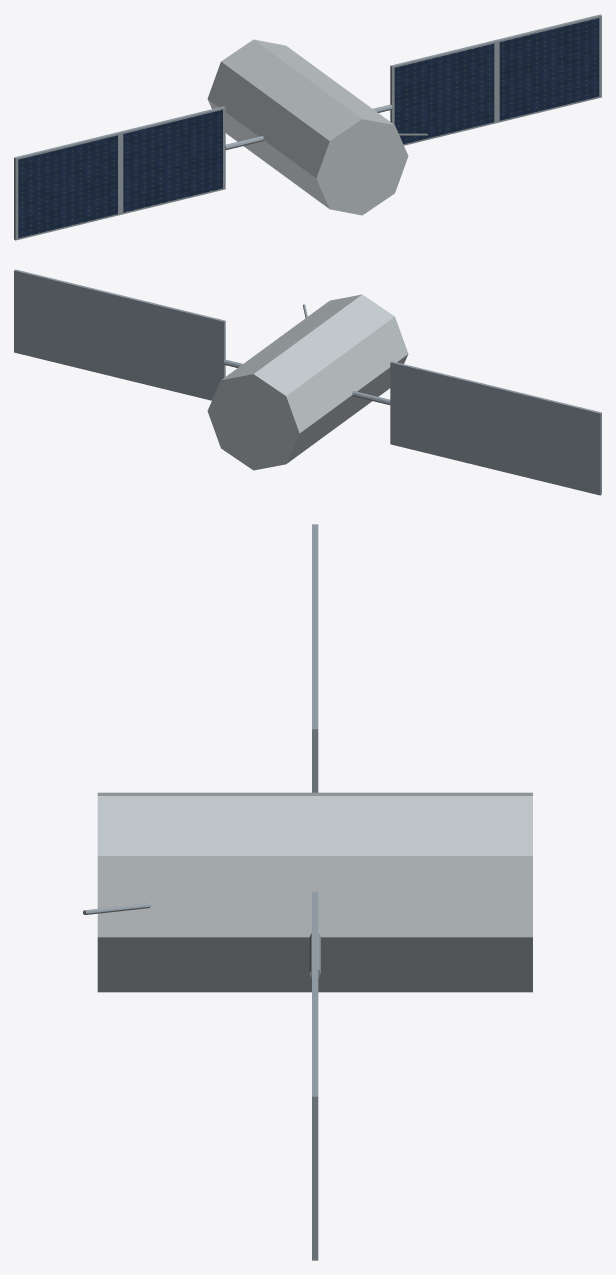
The model's file is ref-astro-h-41337.glb.
The picture shows the model from 3 angles, top to bottom: view 1: azimuth 30°, elevation 25°; view 2: azimuth 150°, elevation 25°; view 3: azimuth 270°, elevation 25°; orthographic projection. The views are drawn at different scales.
Parts seen in each view (by area): view 1: Photovoltaic laminates (×4), Spacecraft body, Array frame (×4); view 2: Array frame (×4), Spacecraft body; view 3: Spacecraft body, Array frame (×2).
Boxes of the visible parts, x1,y1,x2,y2 form: Photovoltaic laminates (×4): (18,18,599,238); Spacecraft body: (207,39,408,215); Array frame (×4): (14,14,601,240); Array frame (×4): (14,269,601,495); Spacecraft body: (207,294,408,470); Spacecraft body: (97,792,532,992); Array frame (×2): (312,627,318,1260).
Size of the model in its own units: 14 by 2.2 by 4.65.
Materials: 3 (1 with a texture image).
